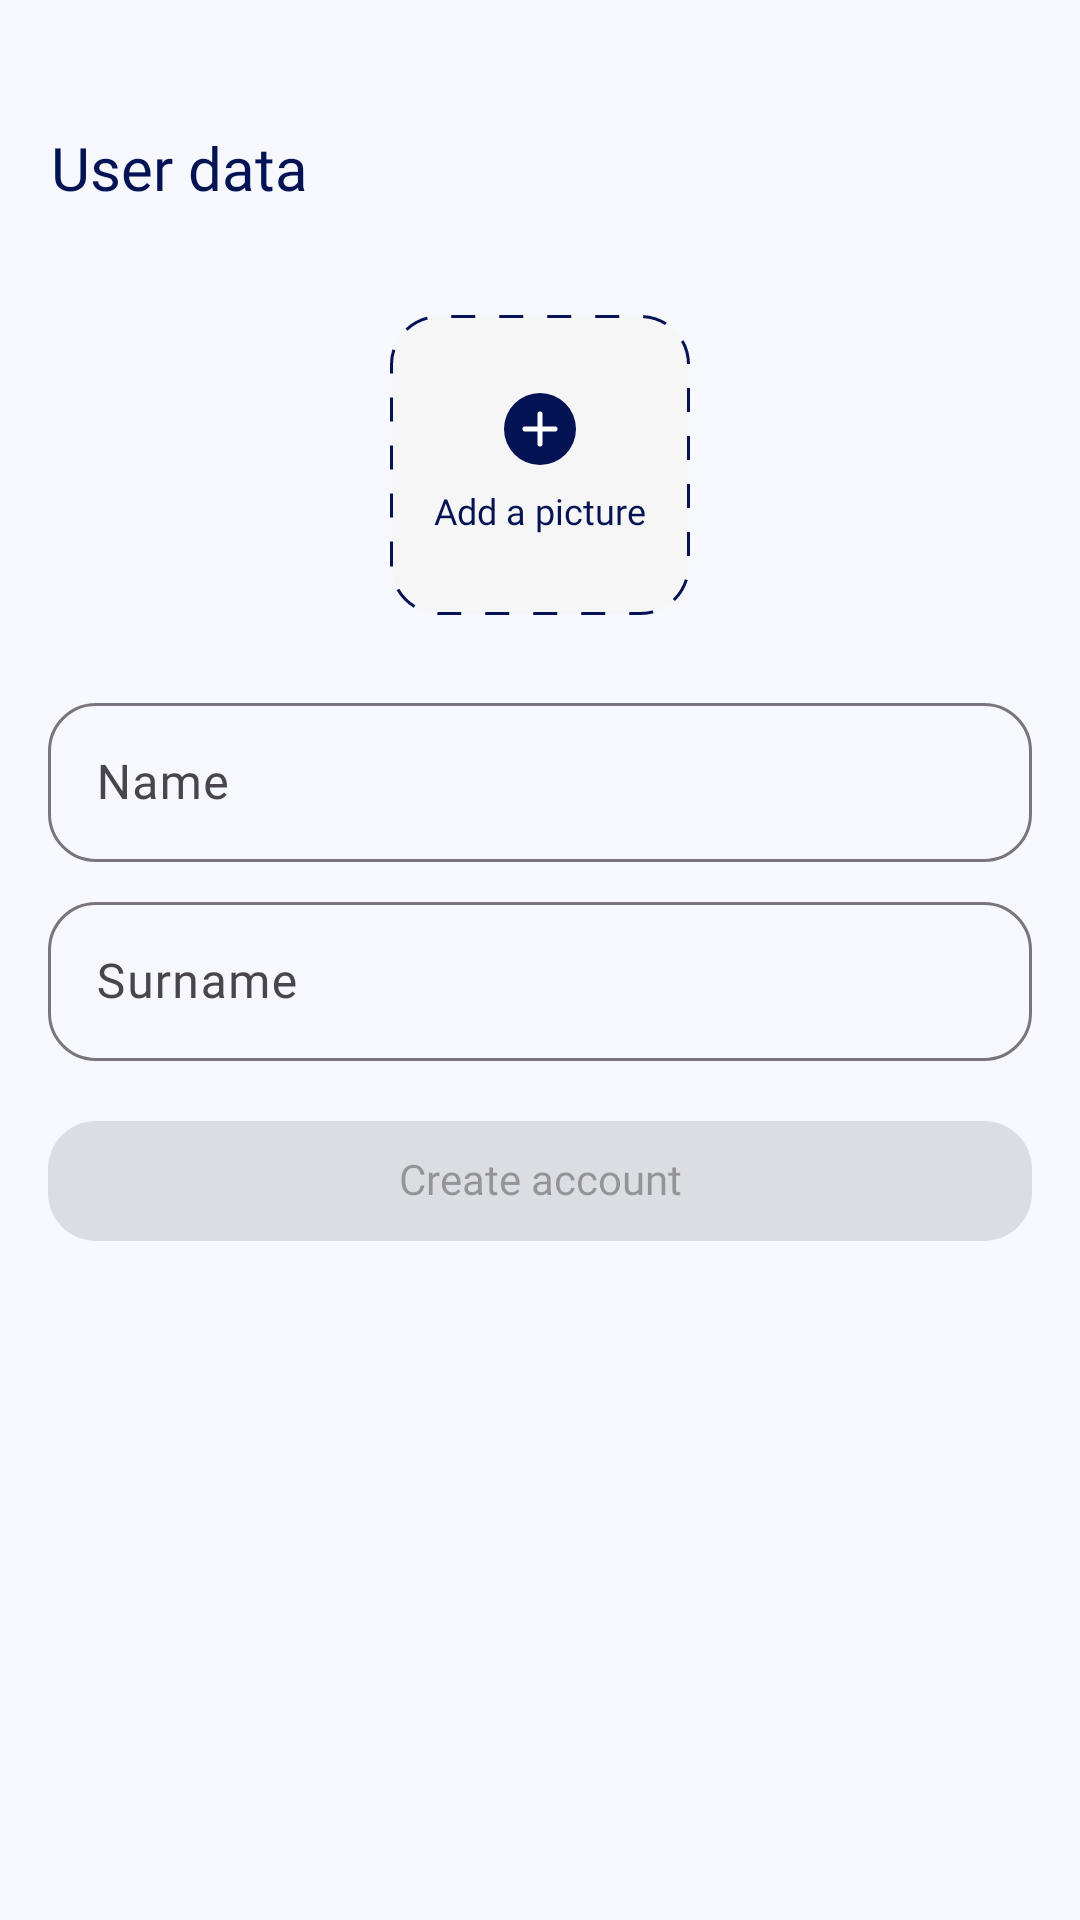

Point at icon controls on the screen. Image size 1080×1920, points as (x=x, y=y).
plus: (x=540, y=429)
